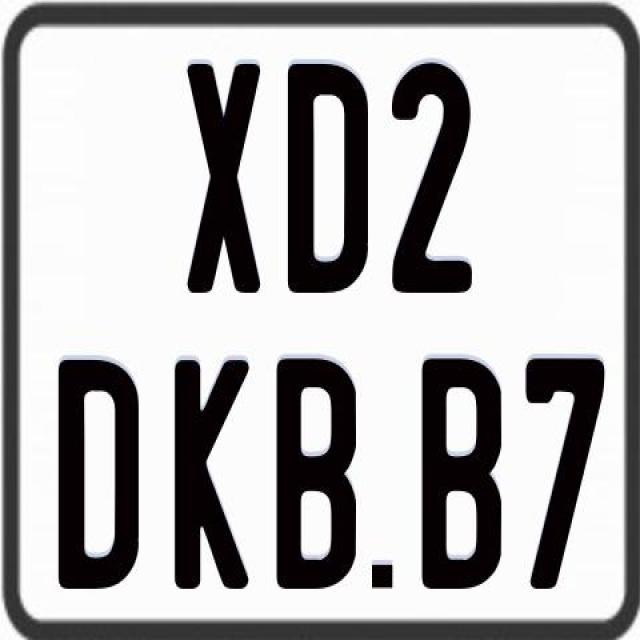2: (389, 59, 471, 299)
7: (524, 355, 610, 592)
B: (274, 357, 358, 597), (420, 357, 504, 590)
D: (284, 62, 372, 292), (58, 358, 142, 597)
K: (173, 361, 254, 594)
X: (186, 64, 258, 298)
